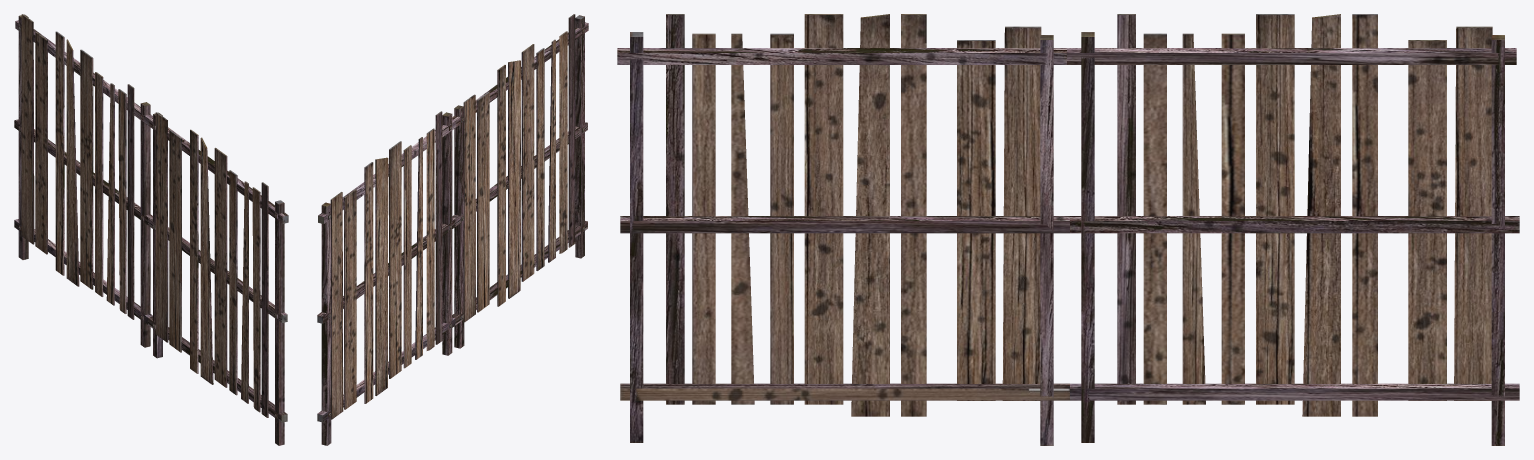
The model's file is fence_rustic.glb.
3 views of the same model, side by side, from view 1: azimuth 30°, elevation 25°; view 2: azimuth 150°, elevation 25°; view 3: azimuth 270°, elevation 25° (orthographic). The views are drawn at different scales.
Visible parts, largest first — view 1: dock; view 2: dock; view 3: dock.
Boxes of the visible parts, x1,y1,x2,y2 form: dock: (14,14,288,445); dock: (317,14,588,445); dock: (617,14,1519,445).
Size of the model in its own units: 0.3637 by 8.8 by 16.88.
1 material, 1 textured.
